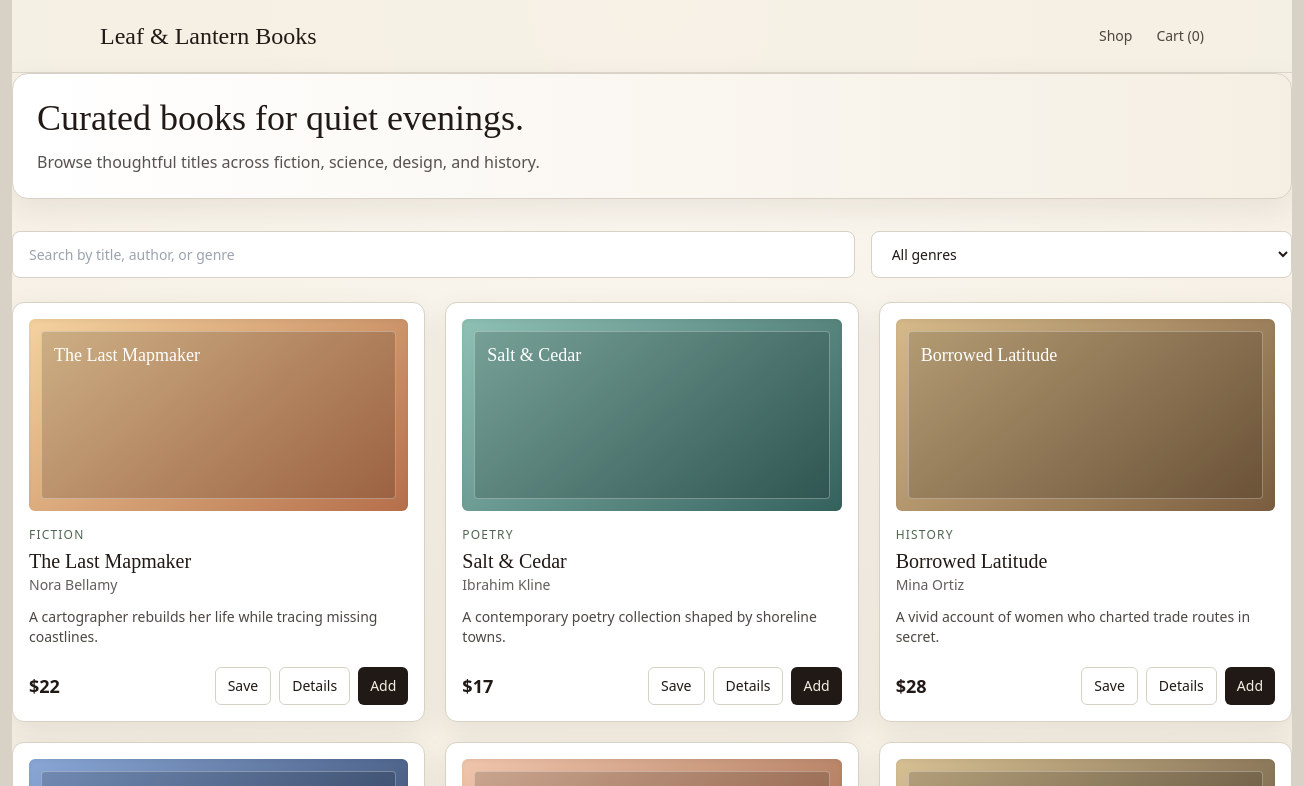
it: storefront interactions › adds to cart from storefront
Click the button "Add" in the row of "22" at [383, 686], box x1=358 y1=667 x2=408 y2=705
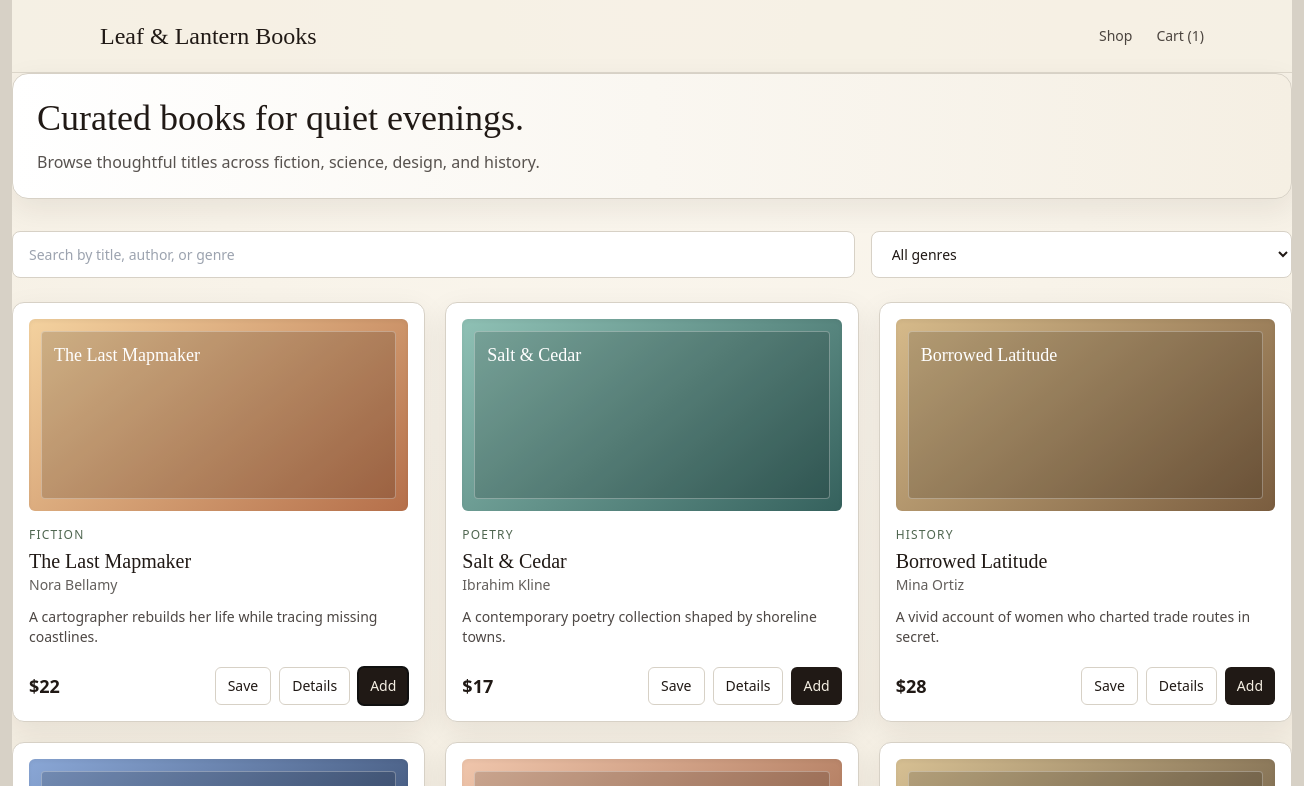
Result: the link "Cart (1)" is shown at x1=1156 y1=26 x2=1204 y2=46
